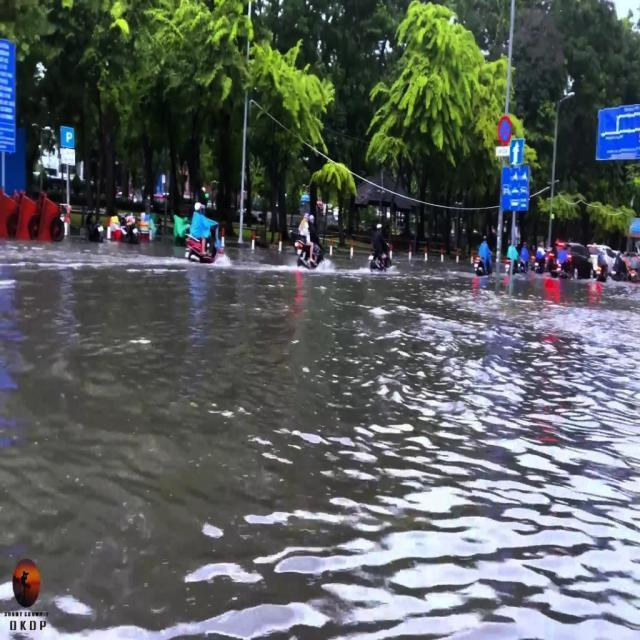130-cam-dung-va-do-xe: (498, 115, 512, 143)
407a-duong-mot-chieu: (510, 140, 524, 164)
